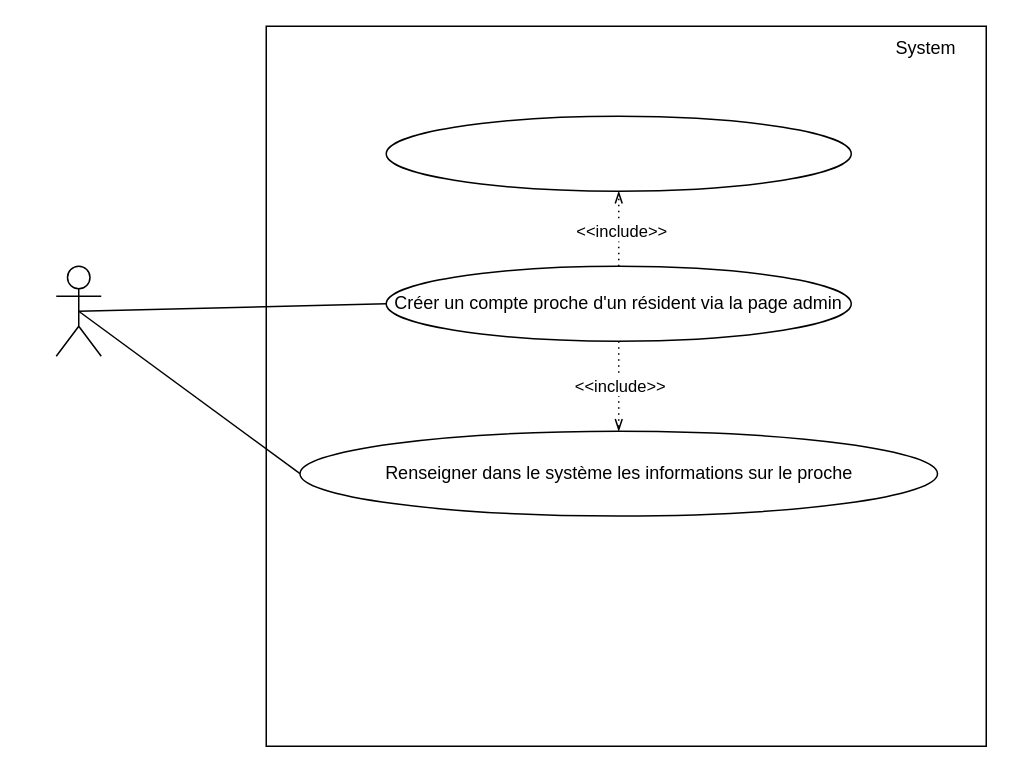
This 1013x773 diagram has some shape labels left out. The centre of each missing label's shape, as x and y in pixels:
Connexion avec un compte Administrateur: pixel 618 153
Responsable: pixel 78 310
